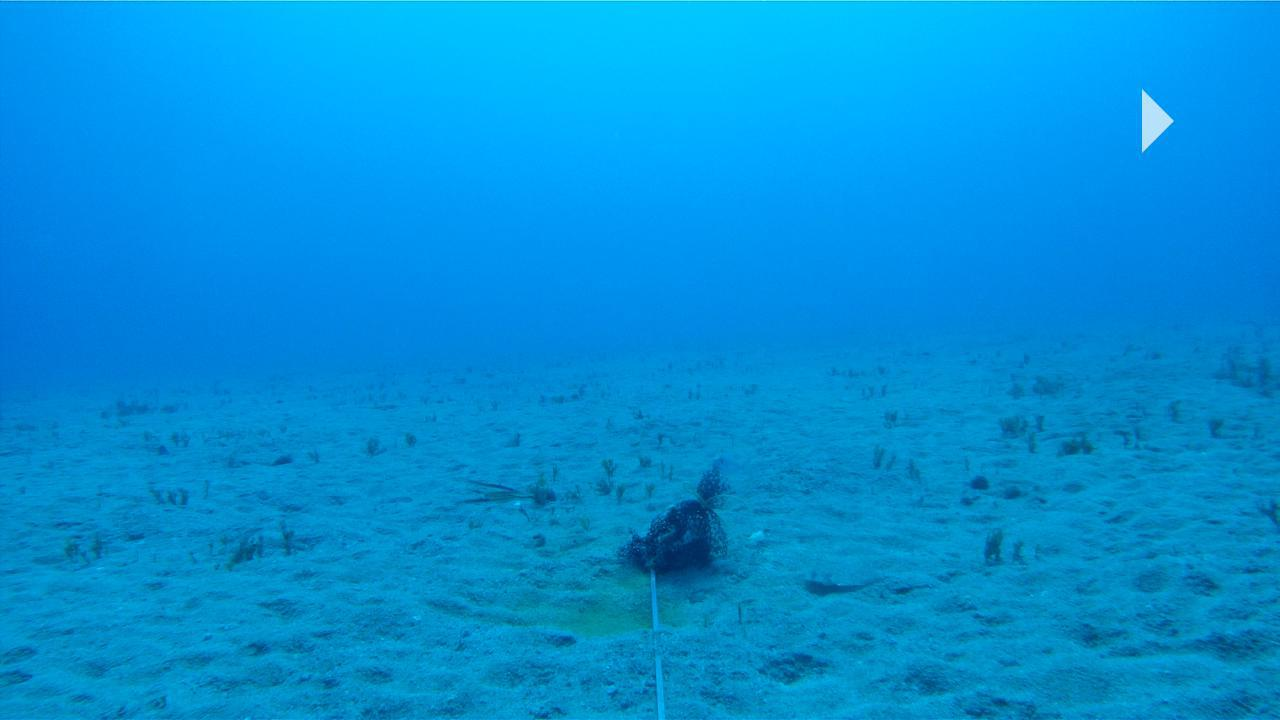bothus: (801, 562, 888, 594)
